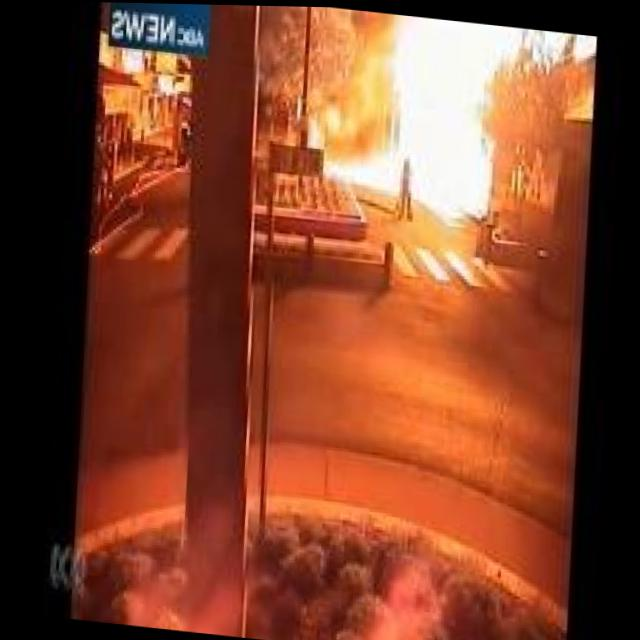fire: (304, 7, 550, 230)
